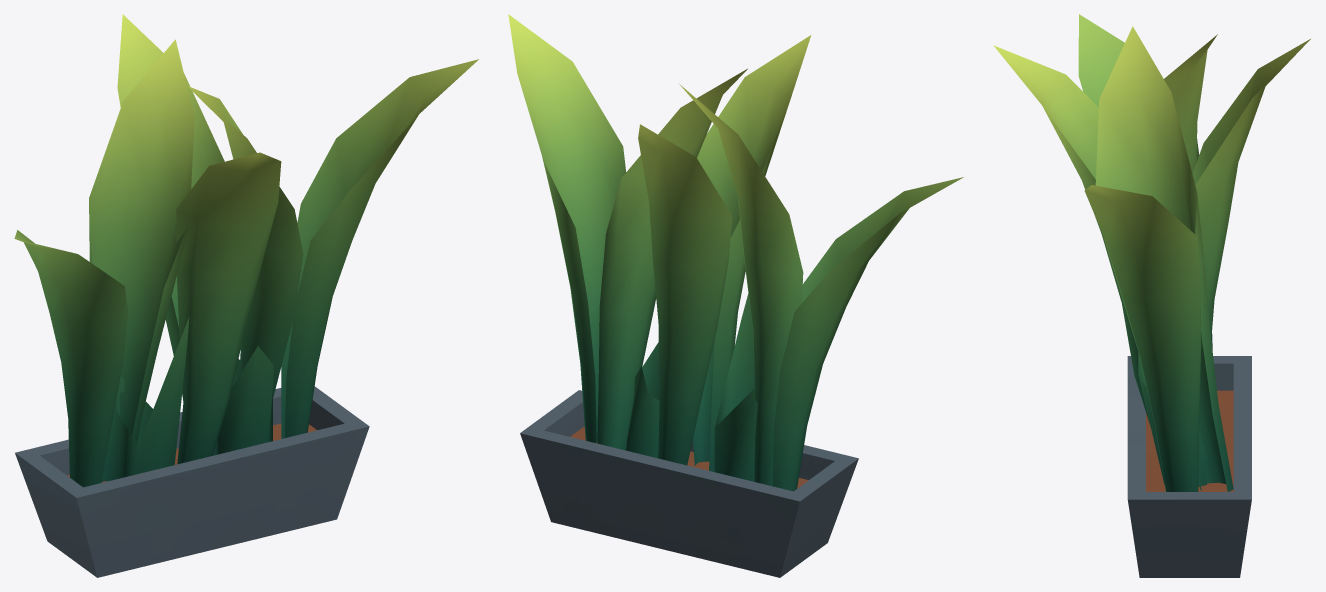
Rendered from bitki2.fbx.
3 views of the same model, side by side, from view 1: azimuth 30°, elevation 25°; view 2: azimuth 150°, elevation 25°; view 3: azimuth 270°, elevation 25° (orthographic). The views are drawn at different scales.
Parts seen in each view (by area): view 1: bitki2; view 2: bitki2; view 3: bitki2.
Part boxes in pixels (x1,y1,x2,y2): bitki2: (14,14,478,577); bitki2: (508,14,963,577); bitki2: (993,14,1310,577).
Size of the model in its own units: 23.89 by 23.32 by 13.91.
